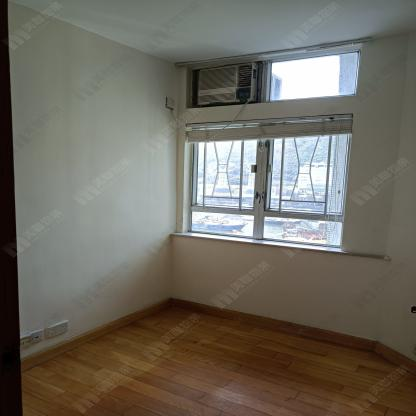AC: (196, 63, 258, 106)
